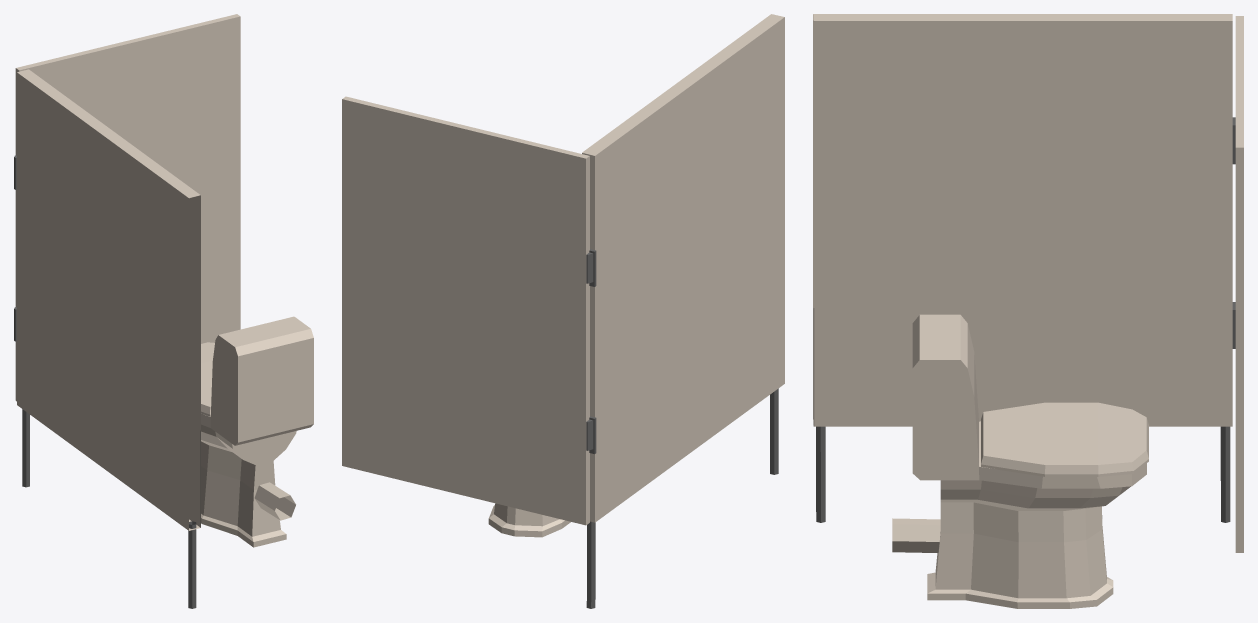
Rendered from bathroomStall.fbx.
The picture shows the model from 3 angles, left to right: view 1: azimuth 30°, elevation 25°; view 2: azimuth 150°, elevation 25°; view 3: azimuth 270°, elevation 25°; orthographic projection. The views are drawn at different scales.
Visible parts, largest first — view 1: toletWall, door, toilet_body1, toilet_lid; view 2: door, toletWall, toilet_body1, hinge; view 3: toletWall, toilet_body1, toilet_lid, door.
Part boxes in pixels (x1,y1,x2,y2): toletWall: [17, 69, 200, 608]; door: [15, 14, 240, 401]; toilet_body1: [201, 316, 313, 547]; toilet_lid: [201, 342, 214, 416]; door: [342, 96, 589, 525]; toletWall: [582, 14, 784, 608]; toilet_body1: [488, 503, 570, 537]; hinge: [586, 249, 596, 454]; toletWall: [813, 14, 1232, 522]; toilet_body1: [892, 314, 1146, 608]; toilet_lid: [981, 402, 1148, 476]; door: [1235, 16, 1243, 552].
Bounding box in the file's own units: 2.87 × 5.01 × 3.88.
Materials: 1 (1 with a texture image).
